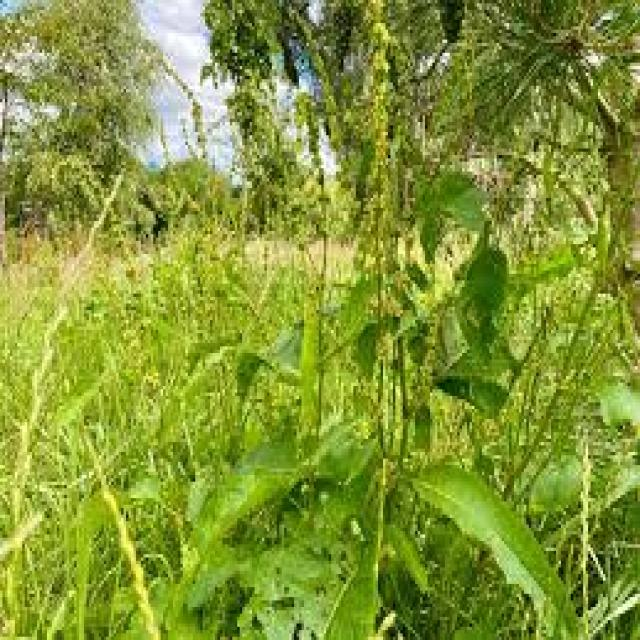organic waste: (175, 254, 640, 640)
